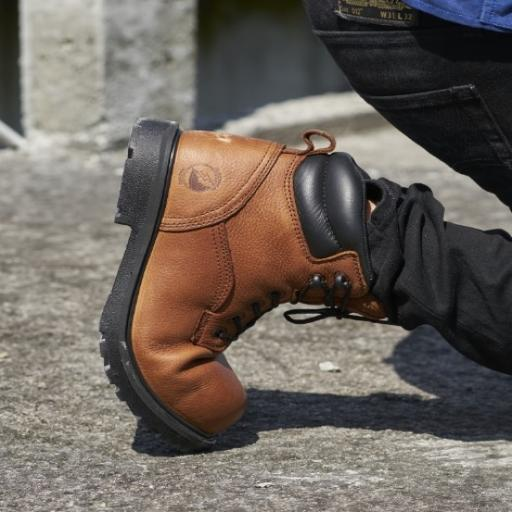safety_boots: (89, 102, 291, 450)
